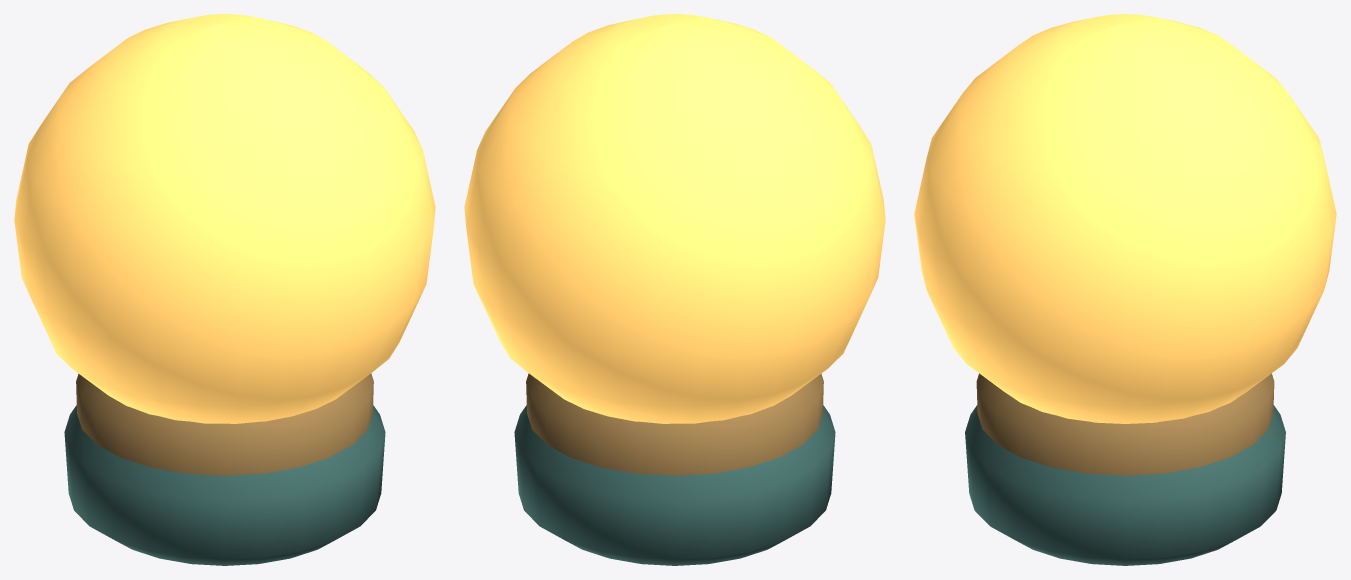
File: kit_ai_orb_v1.glb
3 views of the same model, side by side, from view 1: azimuth 30°, elevation 25°; view 2: azimuth 150°, elevation 25°; view 3: azimuth 270°, elevation 25° (orthographic).
Parts seen in each view (by area): view 1: glow, body; view 2: glow, body; view 3: glow, body.
Boxes of the visible parts, x1,y1,x2,y2 form: glow: [14, 14, 435, 423]; body: [64, 373, 385, 565]; glow: [464, 14, 885, 423]; body: [514, 373, 835, 565]; glow: [914, 14, 1336, 423]; body: [965, 373, 1285, 565].
Size of the model in its own units: 0.4 by 0.5 by 0.4.
